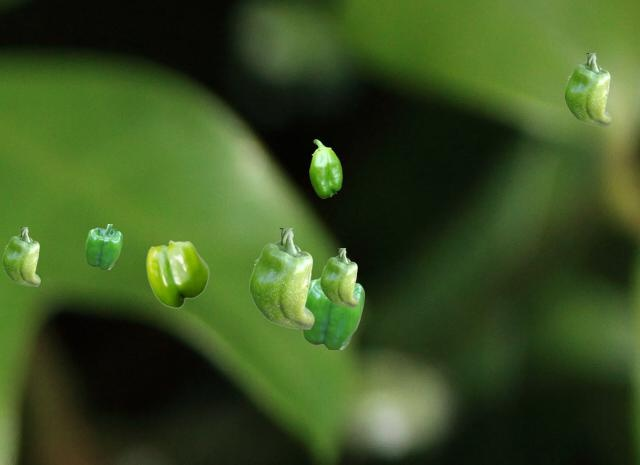bell_pepper: (249, 228, 313, 328), (301, 277, 363, 348), (146, 240, 208, 307), (564, 53, 610, 125), (320, 248, 357, 306), (2, 227, 39, 285), (309, 139, 341, 197), (85, 224, 121, 268)
